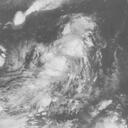cyclone: (27, 14, 103, 109)
